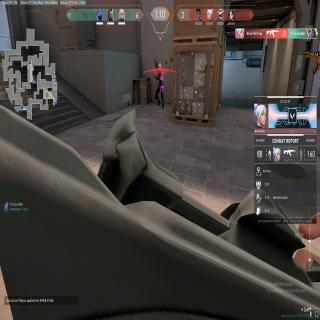ENEMY-BODY: (154, 62, 165, 111)
ENEMY-HEAD: (158, 63, 162, 72)
